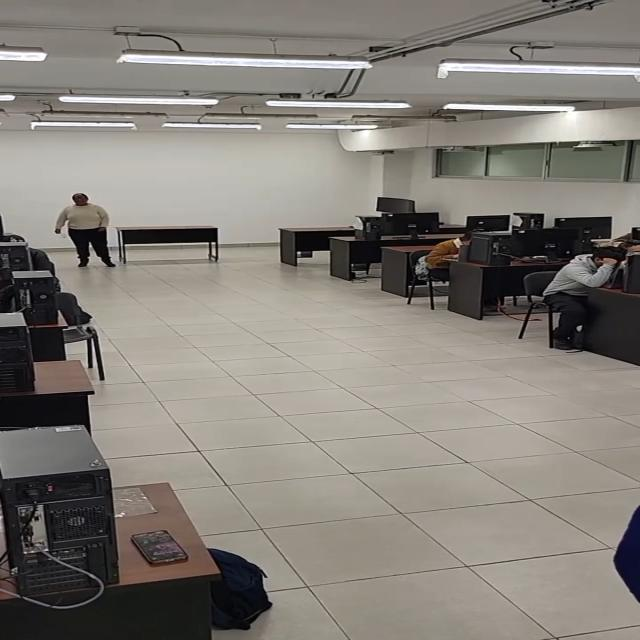Persona: (54, 193, 117, 269)
